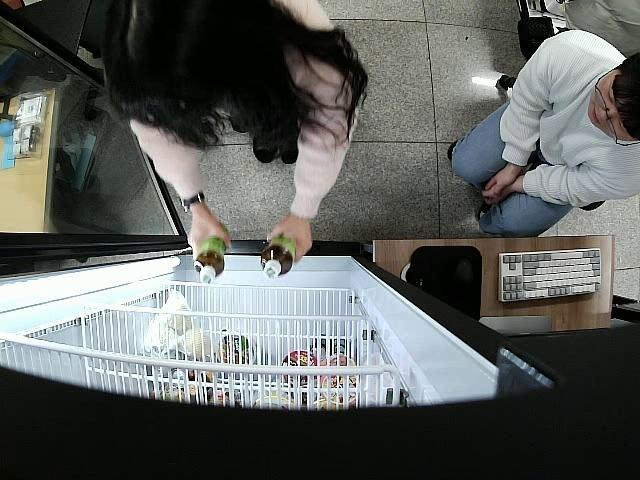19_17cha: (193, 218, 226, 286), (260, 232, 298, 280)
